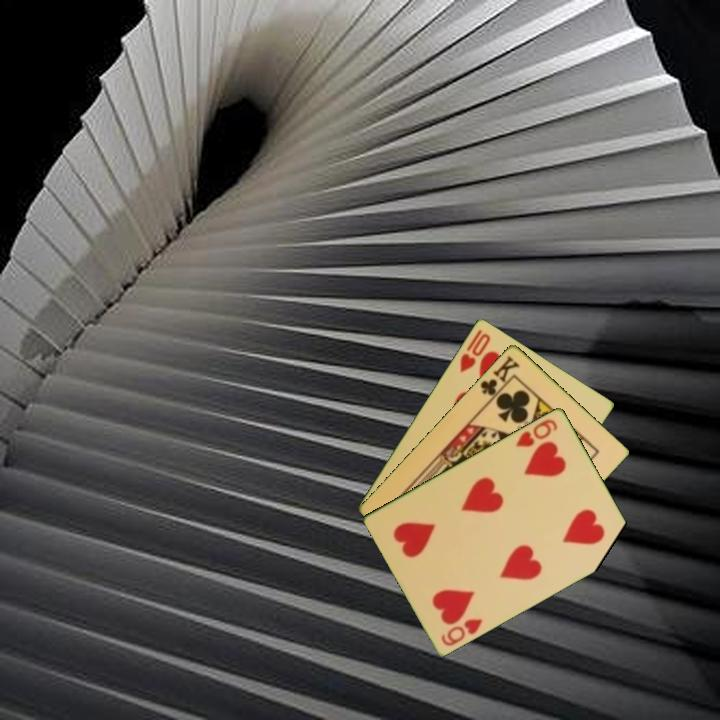10h: (456, 329, 494, 376)
6h: (512, 415, 561, 450), (437, 615, 485, 649)
Kc: (476, 352, 523, 404)
